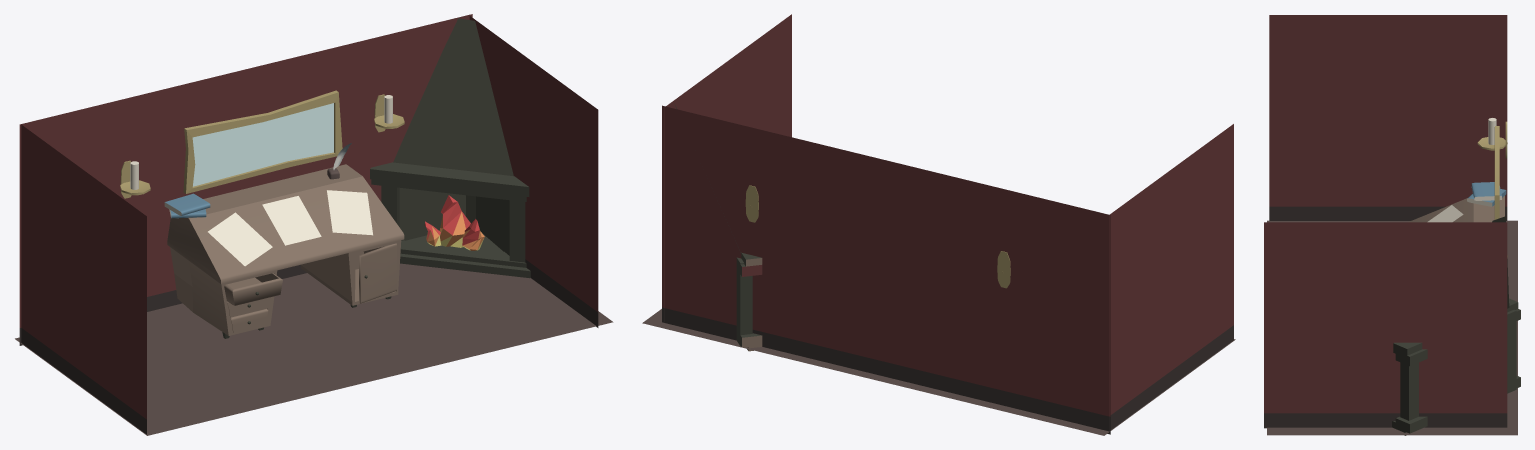
File: Isla_Fantasma_Secuencias_Escenario.FBX
3 views of the same model, side by side, from view 1: azimuth 30°, elevation 25°; view 2: azimuth 150°, elevation 25°; view 3: azimuth 270°, elevation 25° (orthographic). The views are drawn at different scales.
Visible parts, largest first — view 1: Secuencias_Escenario_paredes_suelo, Secuencias_Escenario_chimenea_base, Secuencias_Escenario_Mesa_tabla, Secuencias_Escenario_Chimenea_torre, Secuencias_Escenario_Cuadro, Secuencias_Escenario_Mesa_lados, Secuencias_Escenario_Marco, Secuencias_Escenario_Mesa_armario, opcion3_fondo, opcion2_fondo, opcion1_fondo, Secuencias_Escenario_Mesa_cajon_01 (+5 smaller); view 2: Secuencias_Escenario_paredes_suelo, Secuencias_Escenario_chimenea_base; view 3: Secuencias_Escenario_paredes_suelo, Secuencias_Escenario_chimenea_base, Secuencias_Escenario_Mesa_tabla, Secuencias_Escenario_Marco, Secuencias_Escenario_Vela_01, Secuencias_Escenario_Libro_01, opcion1_fondo.
Boxes of the visible parts, x1,y1,x2,y2 form: Secuencias_Escenario_paredes_suelo: (15, 14, 613, 435); Secuencias_Escenario_chimenea_base: (370, 162, 530, 278); Secuencias_Escenario_Mesa_tabla: (167, 164, 404, 283); Secuencias_Escenario_Chimenea_torre: (393, 18, 513, 176); Secuencias_Escenario_Cuadro: (192, 103, 333, 186); Secuencias_Escenario_Mesa_lados: (170, 240, 401, 335); Secuencias_Escenario_Marco: (183, 90, 342, 193); Secuencias_Escenario_Mesa_armario: (359, 243, 396, 303); opcion3_fondo: (327, 190, 372, 235); opcion2_fondo: (262, 196, 321, 245); opcion1_fondo: (208, 212, 272, 266); Secuencias_Escenario_Mesa_cajon_01: (224, 273, 282, 305); Secuencias_Escenario_paredes_suelo: (642, 14, 1235, 435); Secuencias_Escenario_chimenea_base: (736, 252, 762, 351); Secuencias_Escenario_paredes_suelo: (1264, 15, 1517, 435); Secuencias_Escenario_chimenea_base: (1392, 298, 1520, 435); Secuencias_Escenario_Mesa_tabla: (1408, 196, 1504, 222); Secuencias_Escenario_Marco: (1494, 126, 1499, 219); Secuencias_Escenario_Vela_01: (1477, 118, 1507, 158); Secuencias_Escenario_Libro_01: (1471, 182, 1501, 200); opcion1_fondo: (1427, 205, 1463, 222).
Bounding box in the file's own units: 409 × 185 × 206.
Materials: 1 (1 with a texture image).
